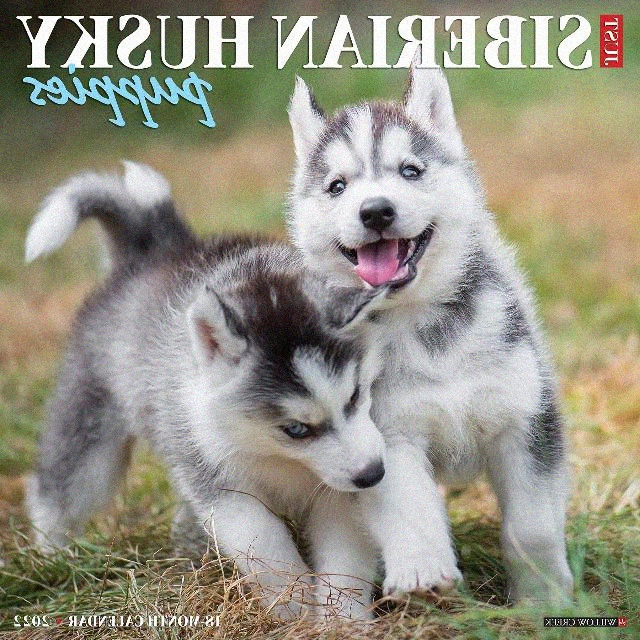dog: (154, 286, 448, 582), (254, 74, 534, 288)
